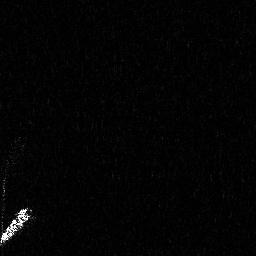ship: (1, 204, 38, 252)
